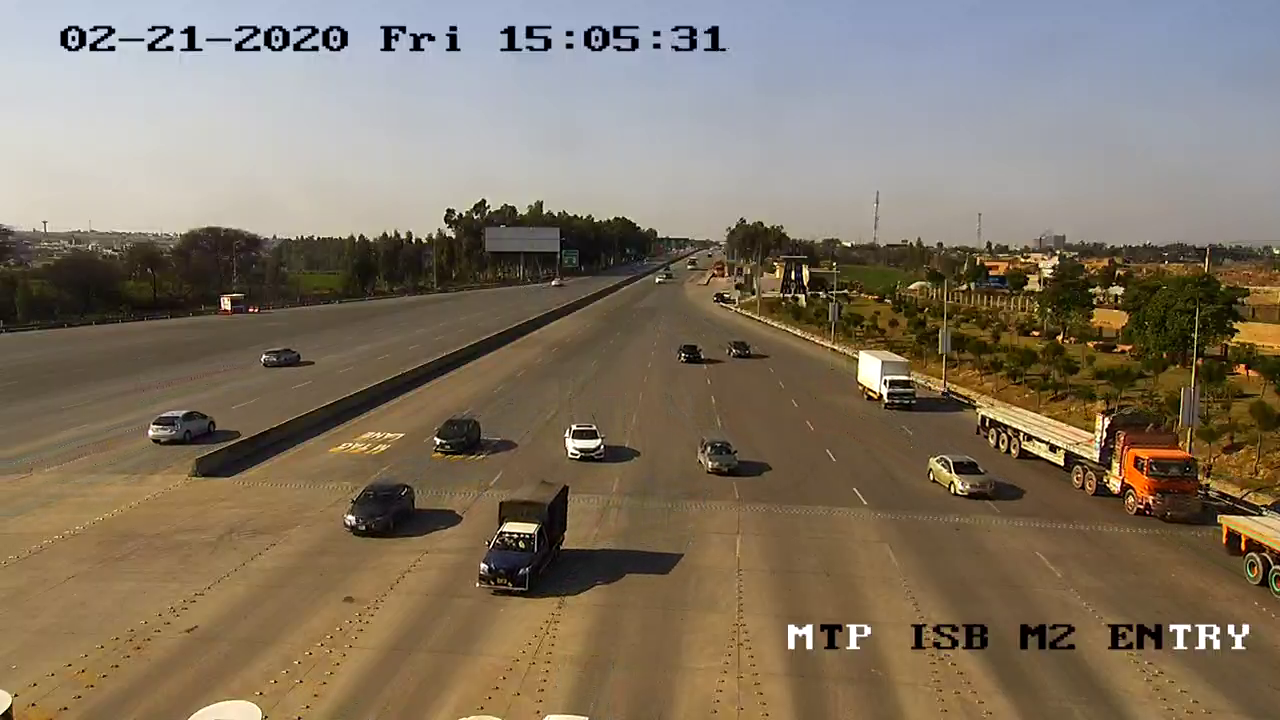f1: (326, 472, 432, 544), (917, 444, 999, 512), (688, 426, 751, 484), (420, 410, 491, 461), (557, 414, 619, 469)
f2: (463, 475, 585, 601)
f5: (843, 345, 926, 418)
f6: (965, 384, 1212, 526)
